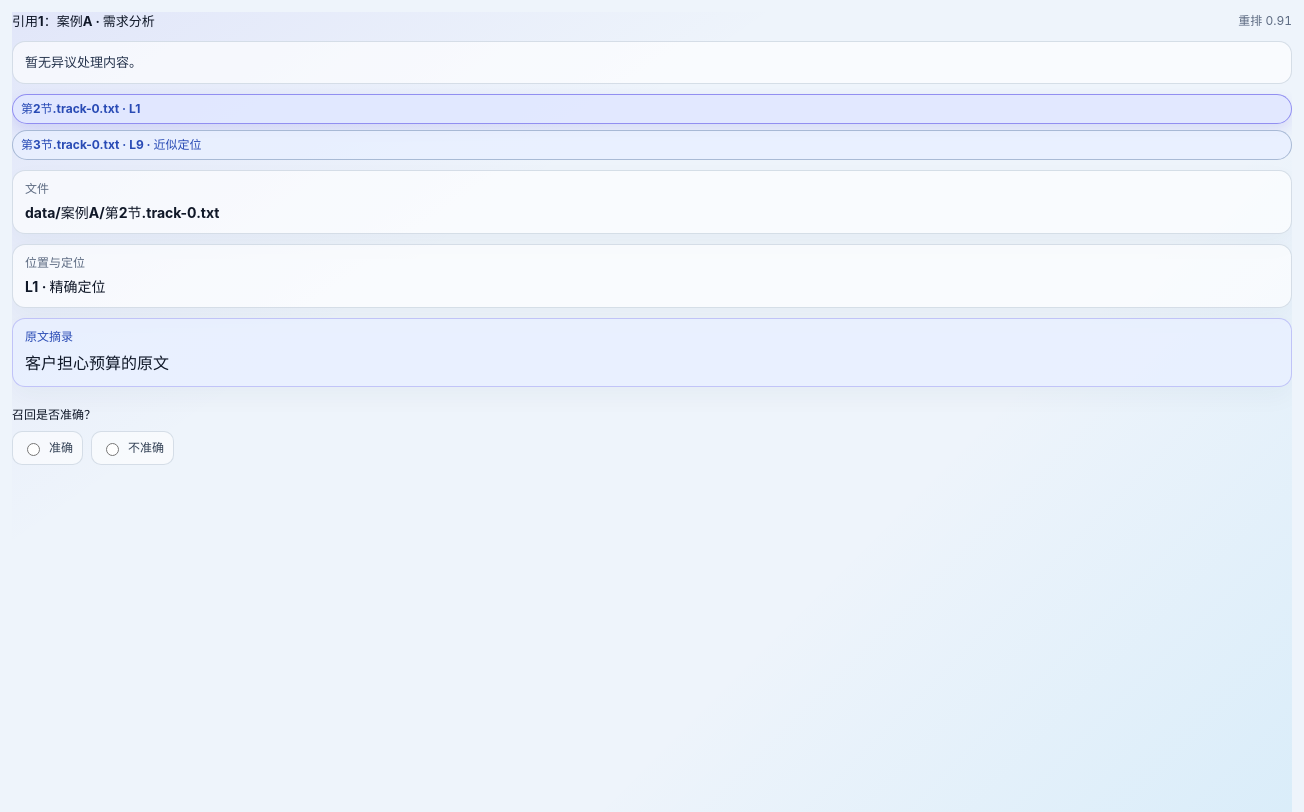
it: 选择召回准确后显示回答参考维度且不提交
Click the radio button with aria-label "引用1召回准确" at (34, 449), box x1=27 y1=443 x2=40 y2=456
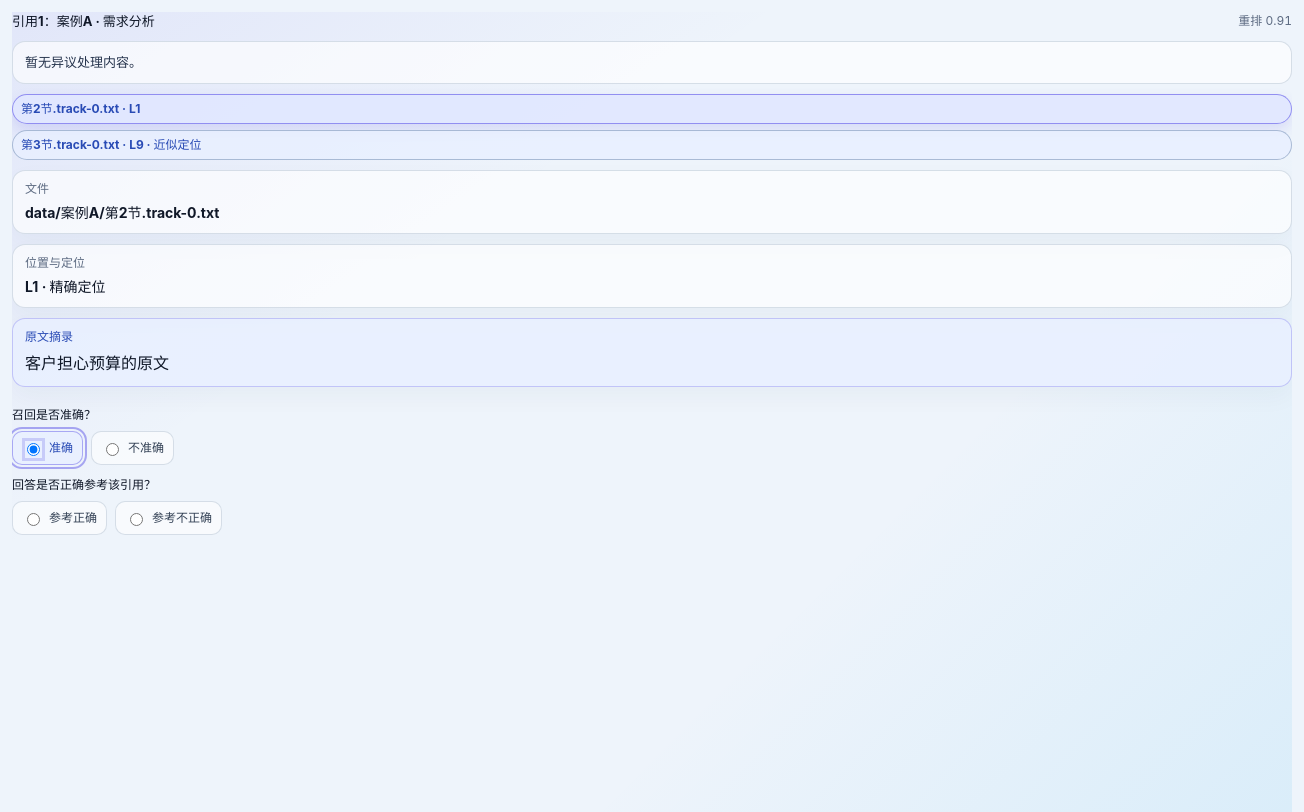
Expected: the radio button with aria-label "引用1召回准确" is checked, x1=27 y1=443 x2=40 y2=456
Expected: the element "回答是否正确参考该引用？" is shown, x1=12 y1=477 x2=222 y2=535
Expected: the radio button with aria-label "引用1参考正确" is not checked, x1=27 y1=513 x2=40 y2=526
